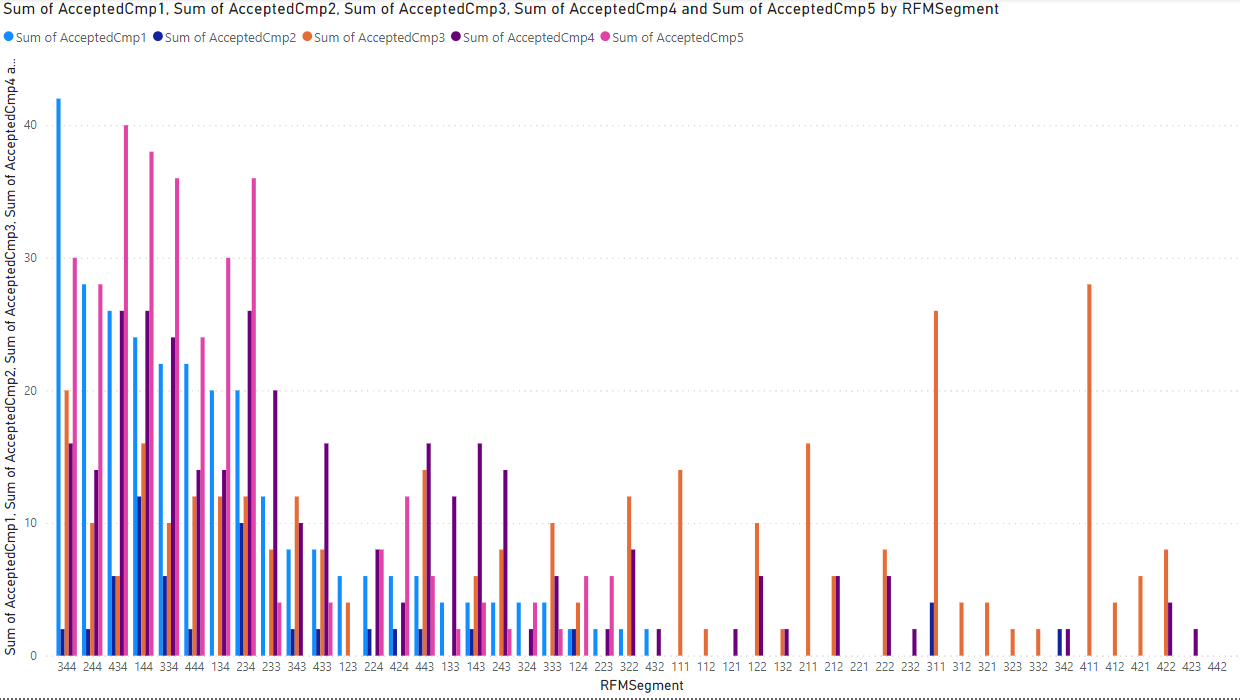

The dashboard page shown, as its layout file describes it:
{"tool":"powerbi","page":{"name":"Segment Score","canvas":[1280,720],"ordinal":4},"visuals":[{"type":"clusteredColumnChart","fields":{"Category":["public ifood_table_silver.RFMSegment"],"Y":["Sum(public ifood_table_silver.AcceptedCmp1)","Sum(public ifood_table_silver.AcceptedCmp2)","Sum(public ifood_table_silver.AcceptedCmp3)","Sum(public ifood_table_silver.AcceptedCmp4)","Sum(public ifood_table_silver.AcceptedCmp5)"]},"box":[0,0,1280,720],"z":0}]}

Visuals, with their boxes in screenshot pixels (x1, y1, x2, y2), scaled from the page's 1280x720 canvas onto the 1240x700 screenshot:
clusteredColumnChart - public ifood_table_silver.RFMSegment x Sum(public ifood_table_silver.AcceptedCmp1): bbox=(0, 0, 1239, 699)
